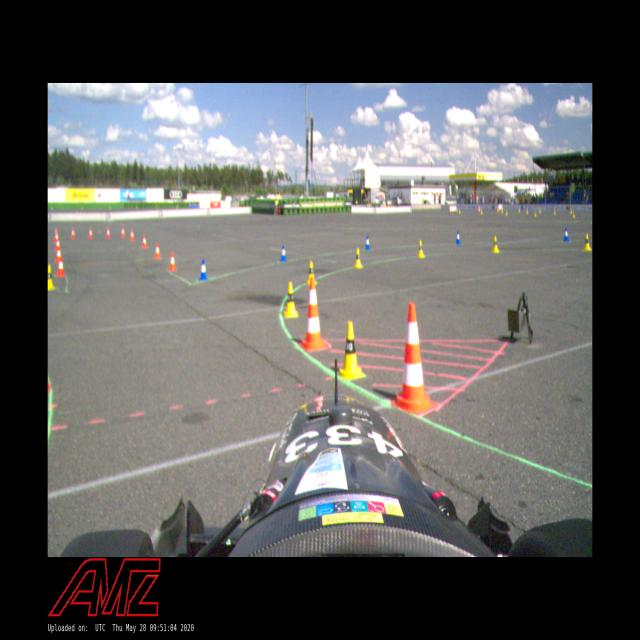blue_cone: (198, 257, 207, 281), (279, 244, 287, 263), (563, 227, 570, 241), (365, 235, 371, 251), (455, 230, 461, 245)
large_orange_cone: (393, 299, 433, 416), (304, 278, 323, 350)
orange_cone: (56, 257, 65, 277), (168, 252, 176, 271), (154, 242, 161, 259), (142, 234, 148, 249), (70, 228, 76, 240), (88, 227, 93, 239), (120, 227, 126, 237), (106, 227, 110, 239), (130, 230, 134, 242)
yellow_cone: (340, 319, 364, 382), (283, 280, 300, 318), (305, 258, 317, 287), (354, 247, 363, 269), (491, 234, 500, 253), (418, 238, 426, 259), (48, 263, 54, 291), (583, 233, 592, 250)
